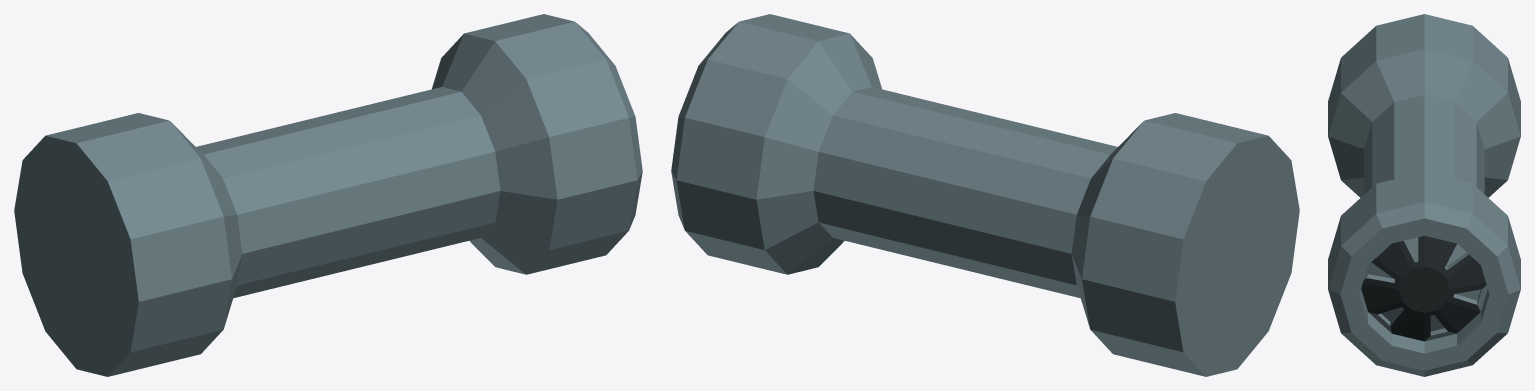
The model's file is wheel_small.glb.
3 views of the same model, side by side, from view 1: azimuth 30°, elevation 25°; view 2: azimuth 150°, elevation 25°; view 3: azimuth 270°, elevation 25° (orthographic). The views are drawn at different scales.
Visible parts, largest first — view 1: Wheel1.001; view 2: Wheel1.001; view 3: Wheel1.001.
Part boxes in pixels (<box>): Wheel1.001: <box>14,14,642,376</box>; Wheel1.001: <box>671,14,1299,376</box>; Wheel1.001: <box>1328,14,1520,376</box>.
Size of the model in its own units: 0.8217 by 0.3466 by 0.3466.
1 material, 1 textured.
